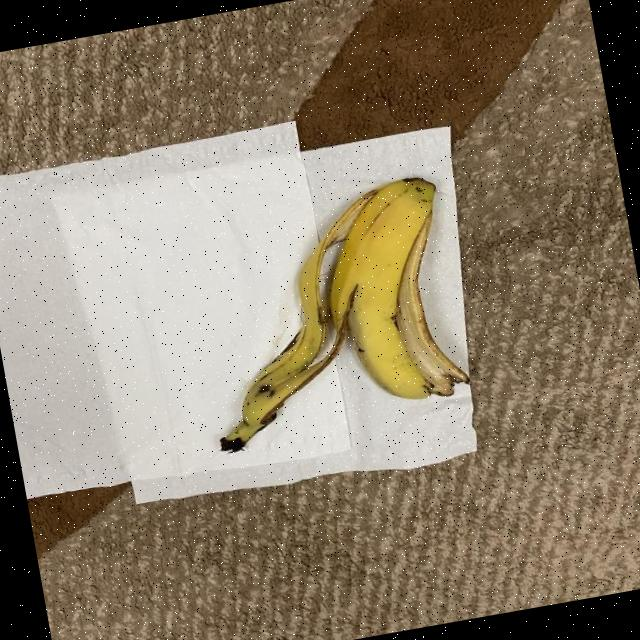banana-peel: (178, 171, 476, 454)
